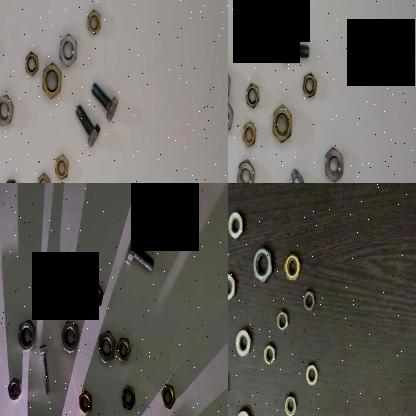Bolts: (89, 70, 118, 126), (74, 93, 102, 148), (275, 25, 312, 66), (124, 228, 154, 276), (35, 340, 55, 401), (278, 164, 304, 183)
NUTS: (269, 98, 293, 146), (320, 139, 346, 183), (250, 244, 274, 284), (40, 62, 64, 100), (92, 328, 115, 364), (12, 316, 34, 353), (280, 247, 302, 283), (60, 314, 78, 354), (231, 324, 252, 358), (58, 34, 78, 67), (82, 1, 100, 35), (228, 208, 246, 242), (230, 158, 254, 183), (242, 76, 259, 110), (0, 88, 14, 128), (21, 46, 37, 80), (116, 332, 132, 366), (76, 384, 92, 416), (240, 118, 257, 147), (119, 384, 136, 412), (158, 382, 176, 408), (300, 71, 316, 99), (86, 282, 102, 310), (300, 287, 316, 313), (5, 376, 22, 400), (260, 341, 276, 366), (52, 154, 66, 182), (304, 360, 318, 388), (274, 309, 290, 332), (281, 394, 295, 416), (228, 270, 236, 302), (228, 95, 234, 133), (228, 65, 234, 101), (232, 406, 250, 416), (33, 174, 49, 183), (4, 172, 16, 183)
